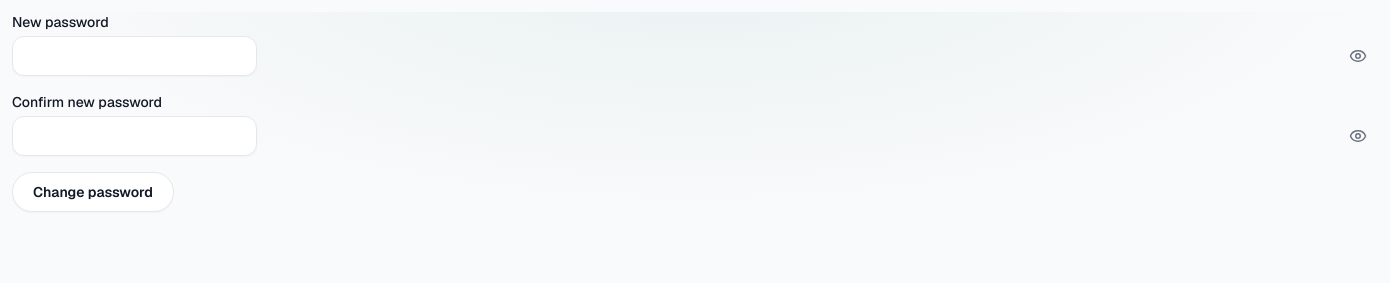
Scenario: ChangePasswordForm › shows Supabase's own safe error message on failure — never a raw exception
Type "correcthorse" into the password field labelled "New password" at (134, 56), box x1=12 y1=36 x2=257 y2=76
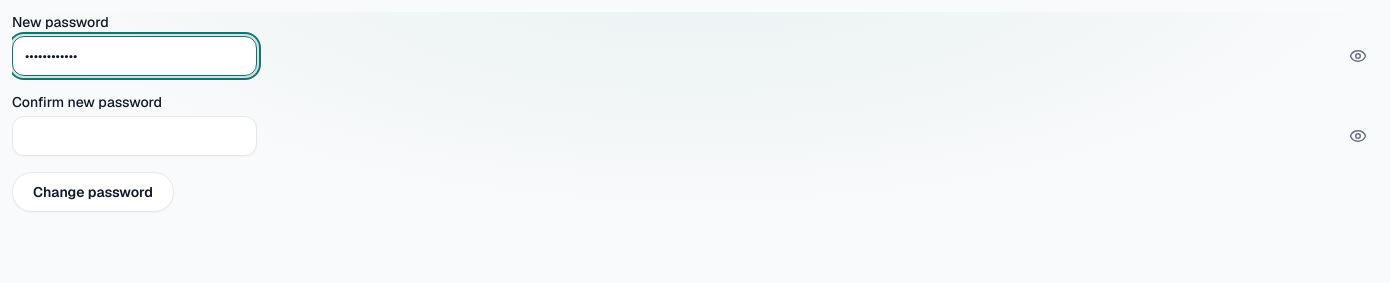
Type "correcthorse" into the password field labelled "Confirm new password" at (134, 136), box x1=12 y1=116 x2=257 y2=156
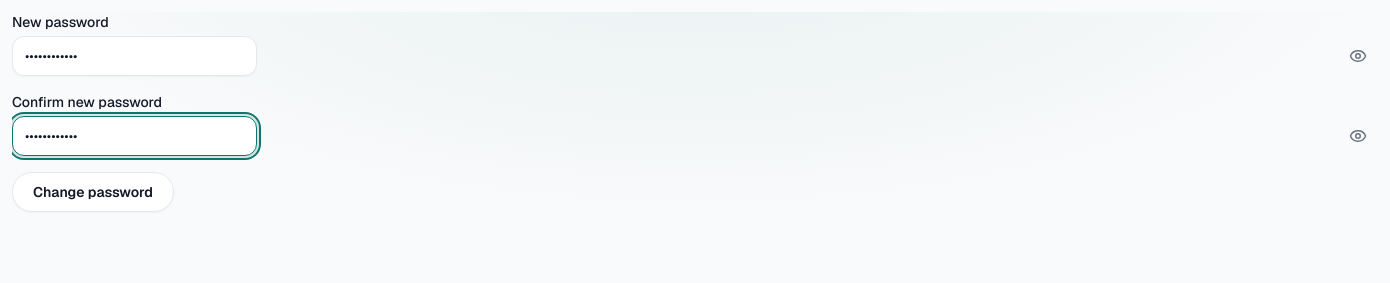
Click the button "Change password" at (93, 192), box x1=12 y1=172 x2=174 y2=212
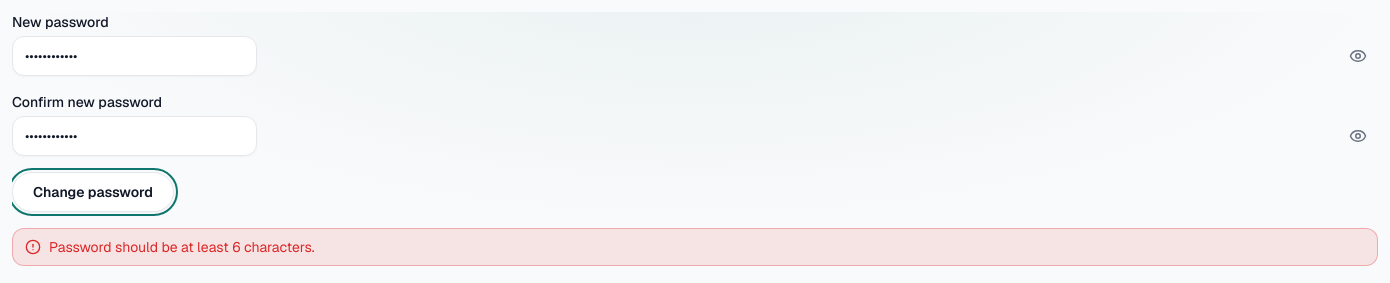
expect the text "Password should be at least 6 characters." is shown: met, box x1=49 y1=237 x2=314 y2=257
